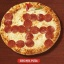pizza: (1, 1, 58, 58)
